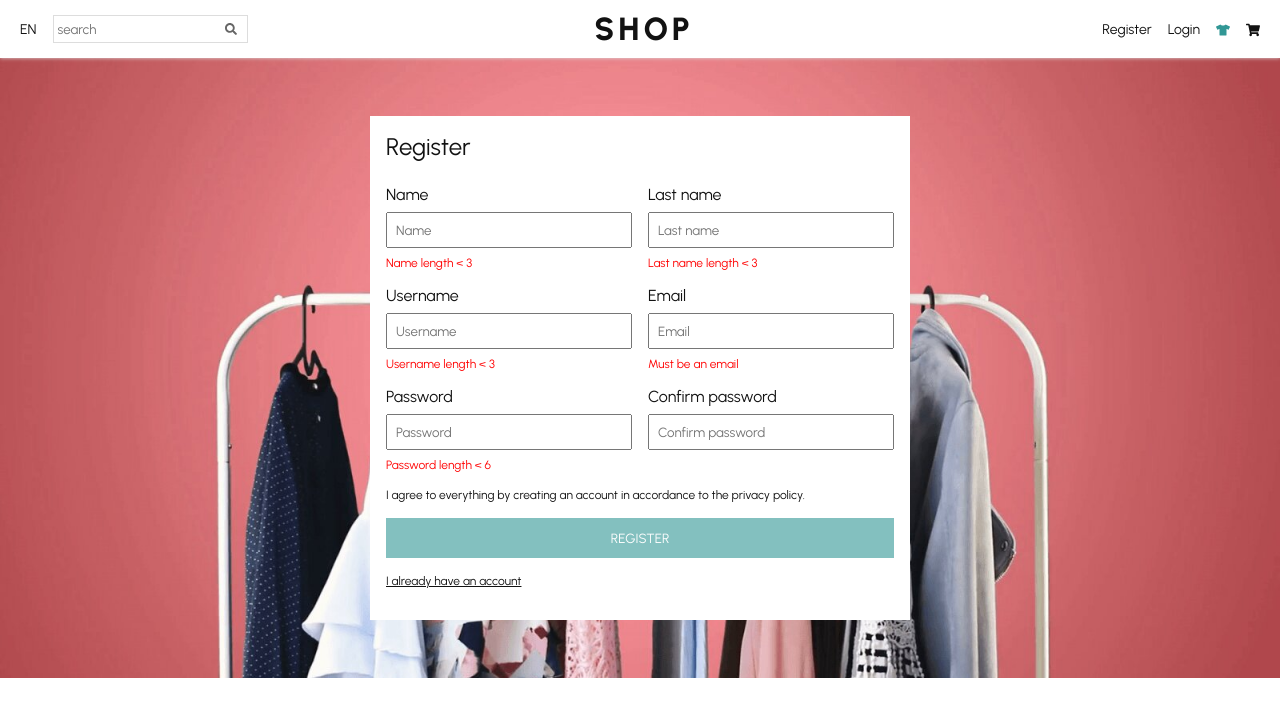
login and logout are working
Click the link "Login" at (1184, 29), box [1168, 20, 1200, 38]
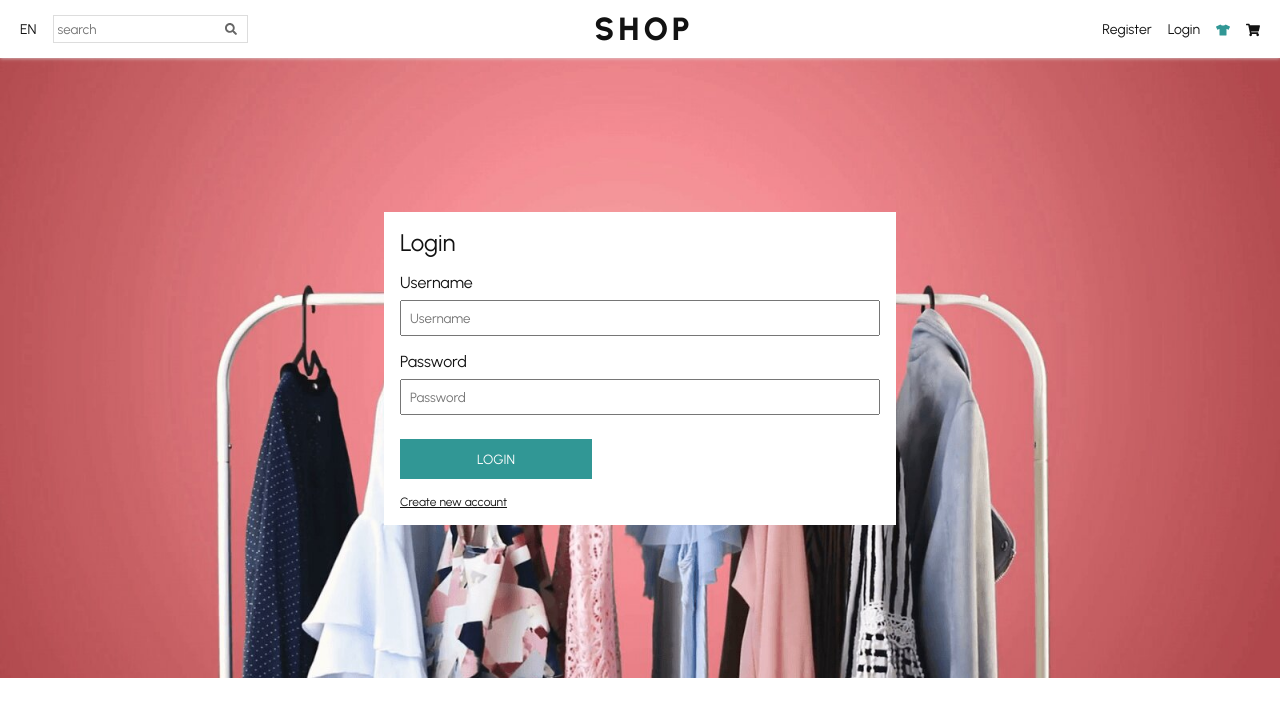
Now the heading "Login" is shown, box [400, 228, 455, 256]
